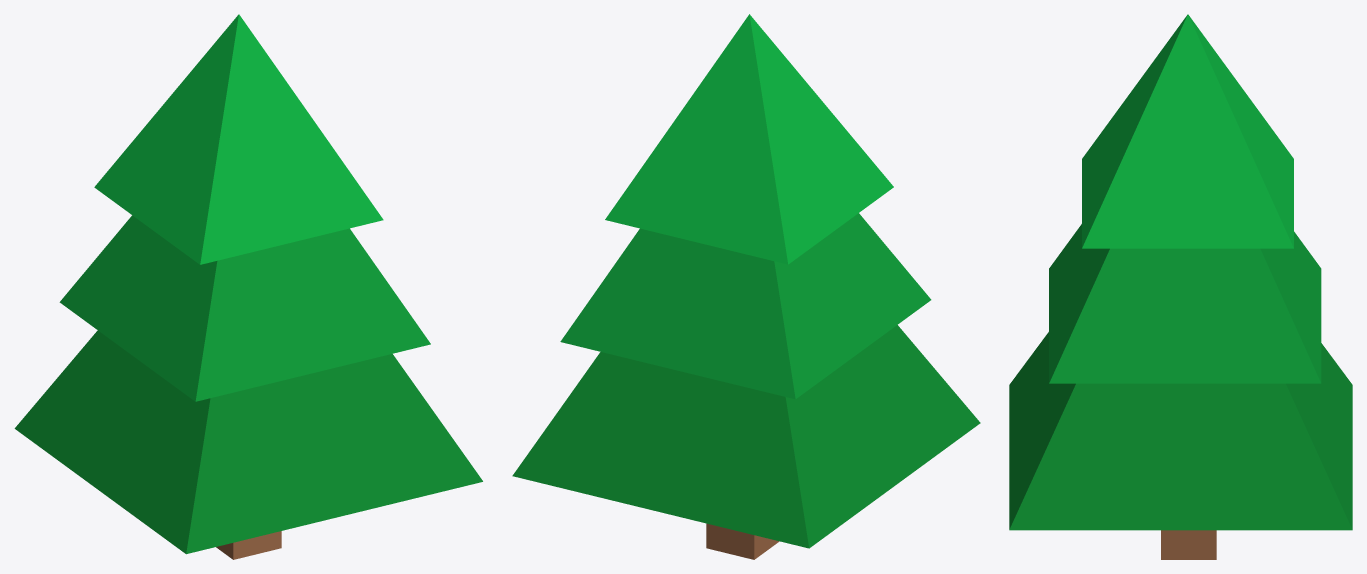
The model's file is Box_Tree.fbx.
3 views of the same model, side by side, from view 1: azimuth 30°, elevation 25°; view 2: azimuth 150°, elevation 25°; view 3: azimuth 270°, elevation 25° (orthographic).
Visible parts, largest first — view 1: node_id295 (×4); view 2: node_id295 (×4); view 3: node_id295 (×4).
Part boxes in pixels (x1,y1,x2,y2): node_id295 (×4): (14,14,482,559); node_id295 (×4): (512,14,980,559); node_id295 (×4): (1009,14,1352,559).
Size of the model in its own units: 0.2908 by 0.4967 by 0.2908.
Materials: 4 (4 with a texture image).
